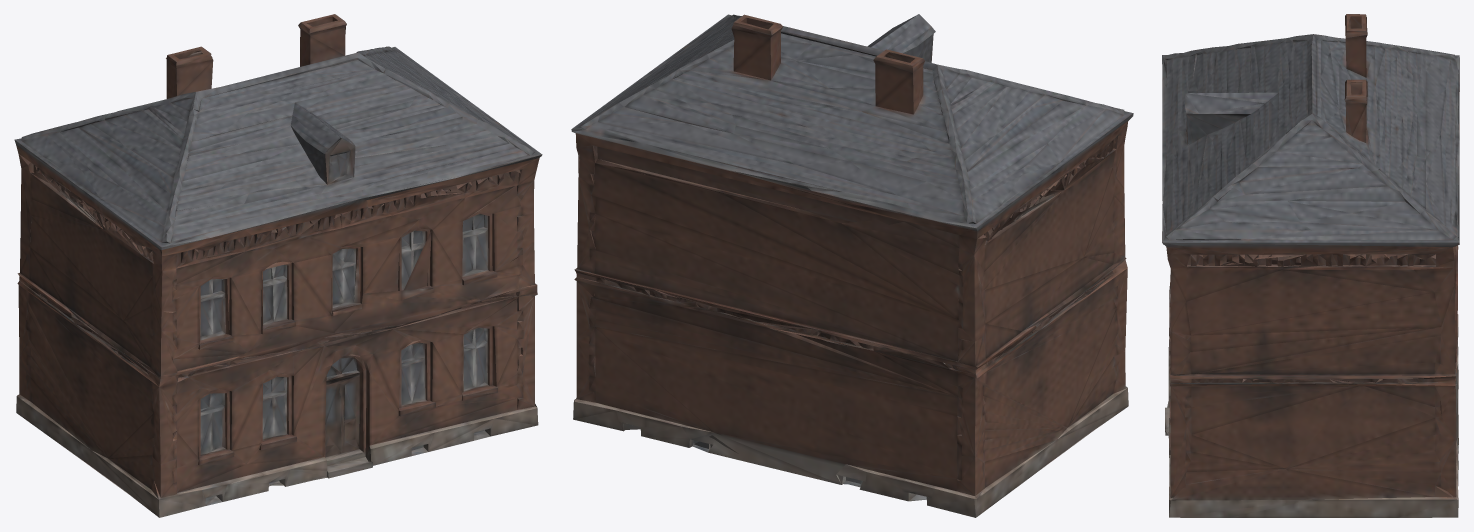
Rendered from mid_familok_house.glb.
The picture shows the model from 3 angles, left to right: view 1: azimuth 30°, elevation 25°; view 2: azimuth 150°, elevation 25°; view 3: azimuth 270°, elevation 25°; orthographic projection. The views are drawn at different scales.
Visible parts, largest first — view 1: main; view 2: main; view 3: main.
Part boxes in pixels (x1,y1,x2,y2): main: (14, 14, 542, 517); main: (571, 14, 1133, 517); main: (1162, 14, 1459, 517).
Size of the model in its own units: 9.27 by 8.5 by 6.21.
1 material, 1 textured.
